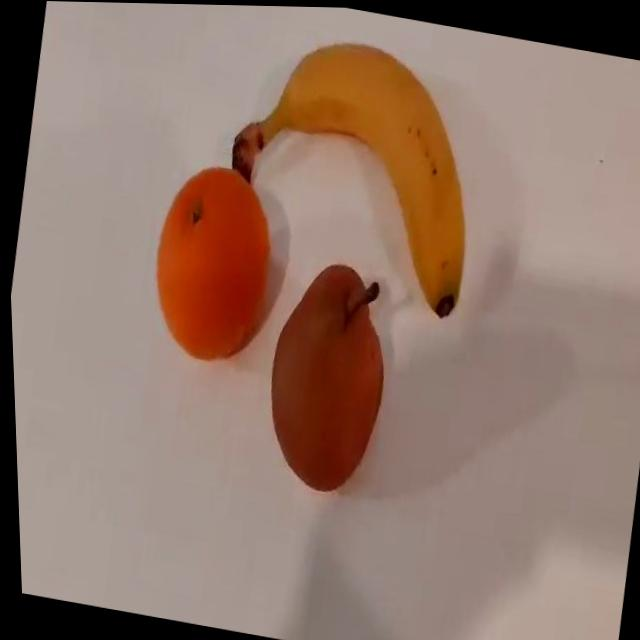Banana: (217, 24, 497, 324)
Orange: (137, 153, 288, 361)
